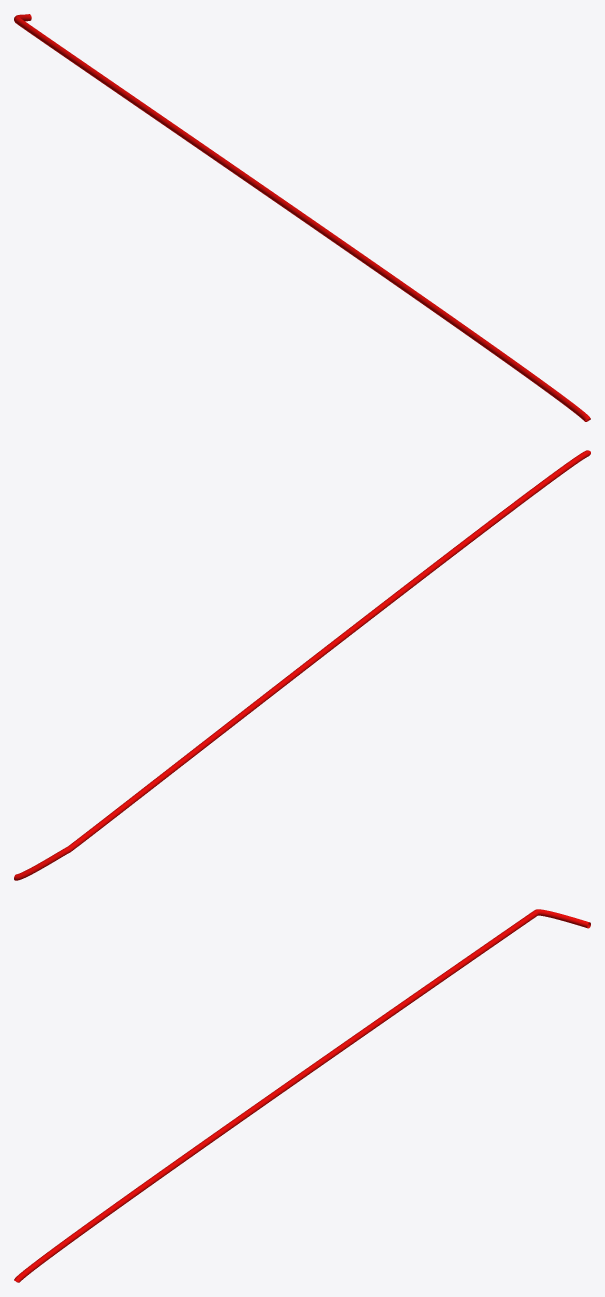
Rendered from cable rojo.fbx.
3 views of the same model, one above another, from view 1: azimuth 30°, elevation 25°; view 2: azimuth 150°, elevation 25°; view 3: azimuth 330°, elevation 25° (orthographic). The views are drawn at different scales.
Visible parts, largest first — view 1: BézierCurve.003; view 2: BézierCurve.003; view 3: BézierCurve.003.
Boxes of the visible parts, x1,y1,x2,y2 form: BézierCurve.003: [14, 14, 590, 421]; BézierCurve.003: [14, 450, 590, 880]; BézierCurve.003: [14, 909, 590, 1282].
Size of the model in its own units: 29.73 by 34.19 by 802.
